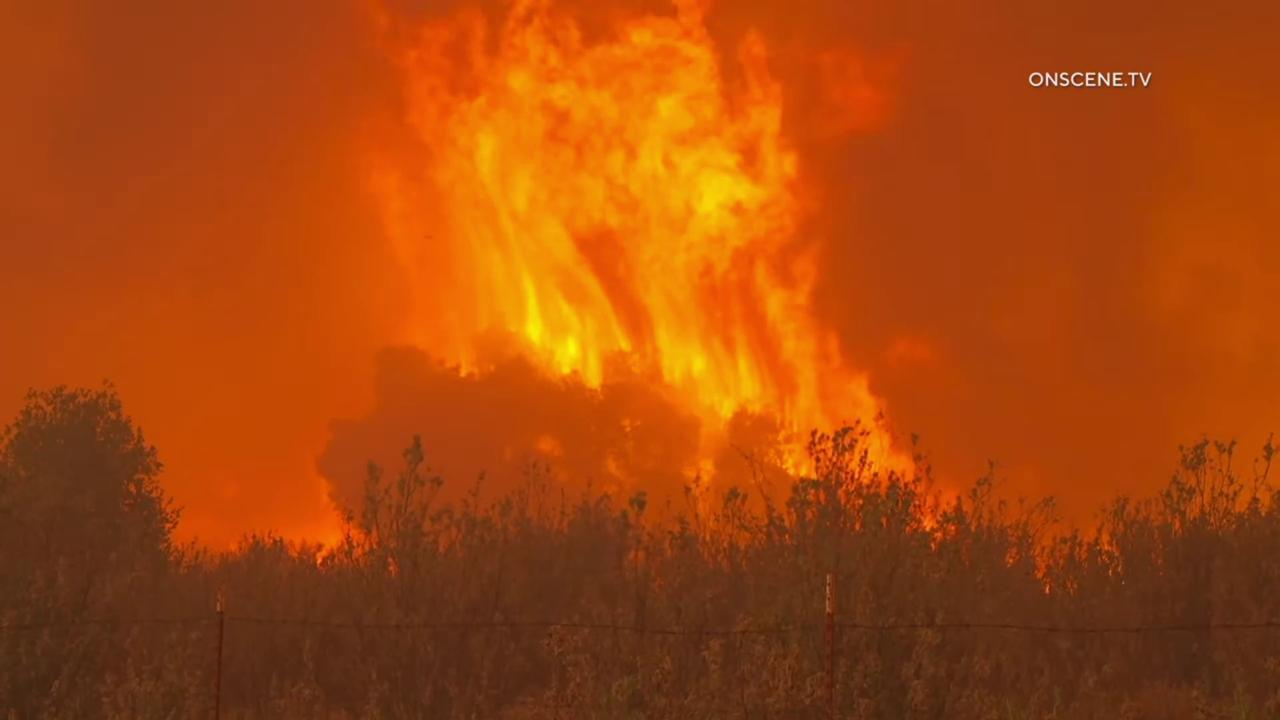fire: (362, 0, 969, 541)
smoke: (0, 0, 1280, 620)
